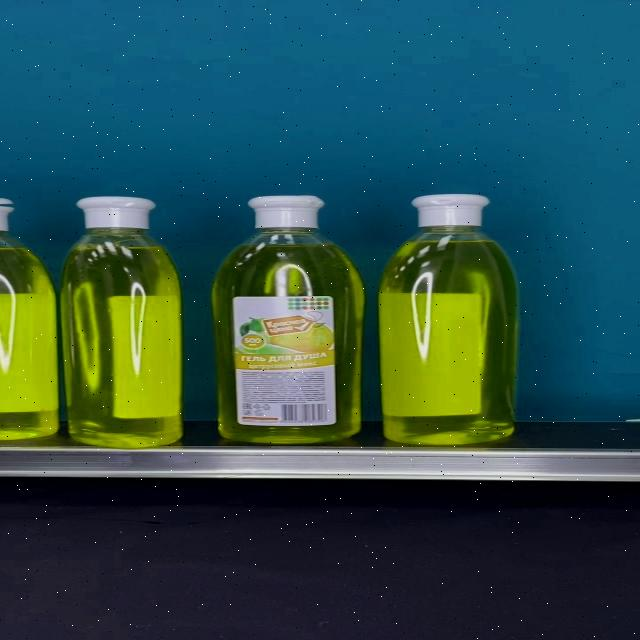Bottle: (212, 195, 364, 442), (379, 194, 519, 443), (60, 196, 183, 448)
Cap: (410, 193, 490, 227), (76, 196, 154, 229), (249, 196, 329, 228)
